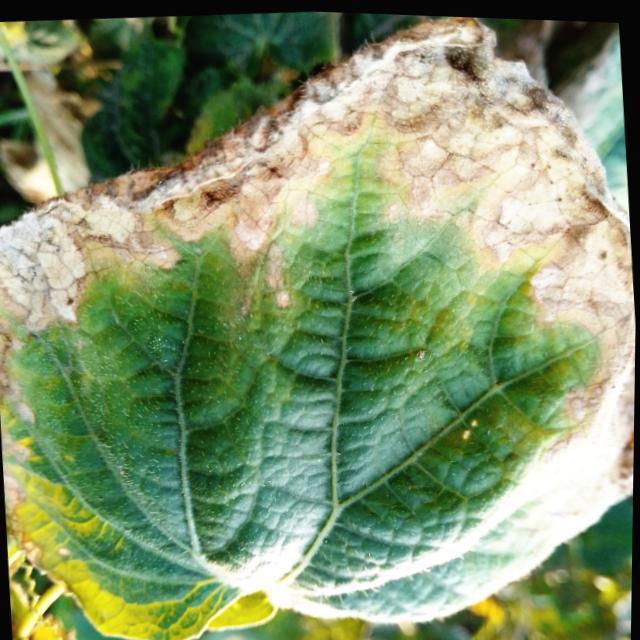Gummy-Stem-Blight: (0, 16, 635, 556)
